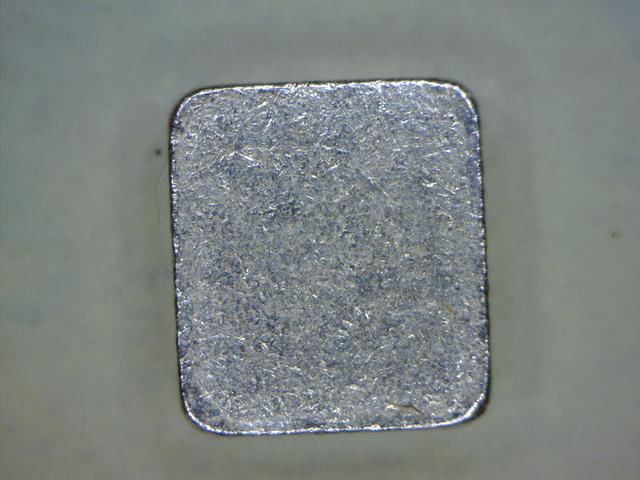ok: (152, 68, 513, 445)
